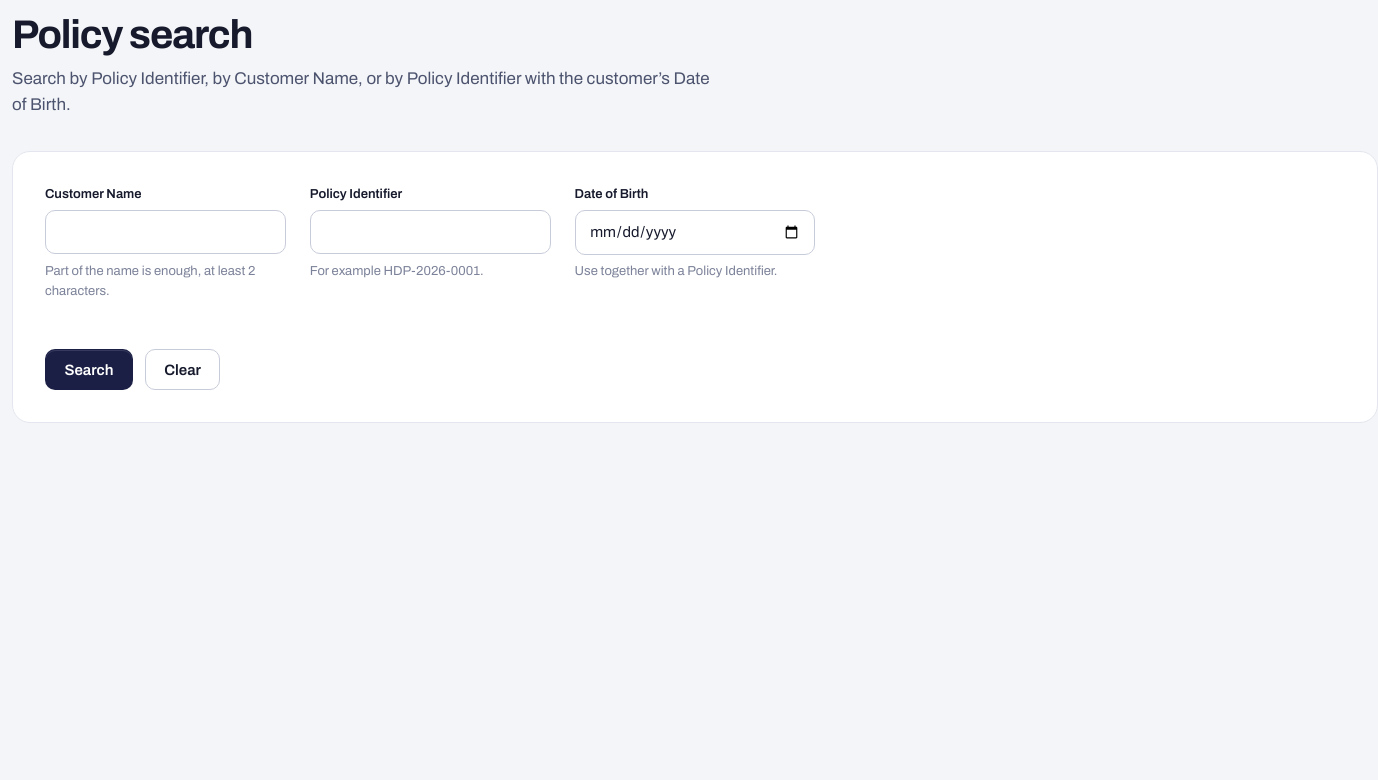
PolicySearchPage › searches by name and links each result to its payments
Type "meera" into the field labelled "Customer Name" at point(165, 232), box [45,210,286,254]
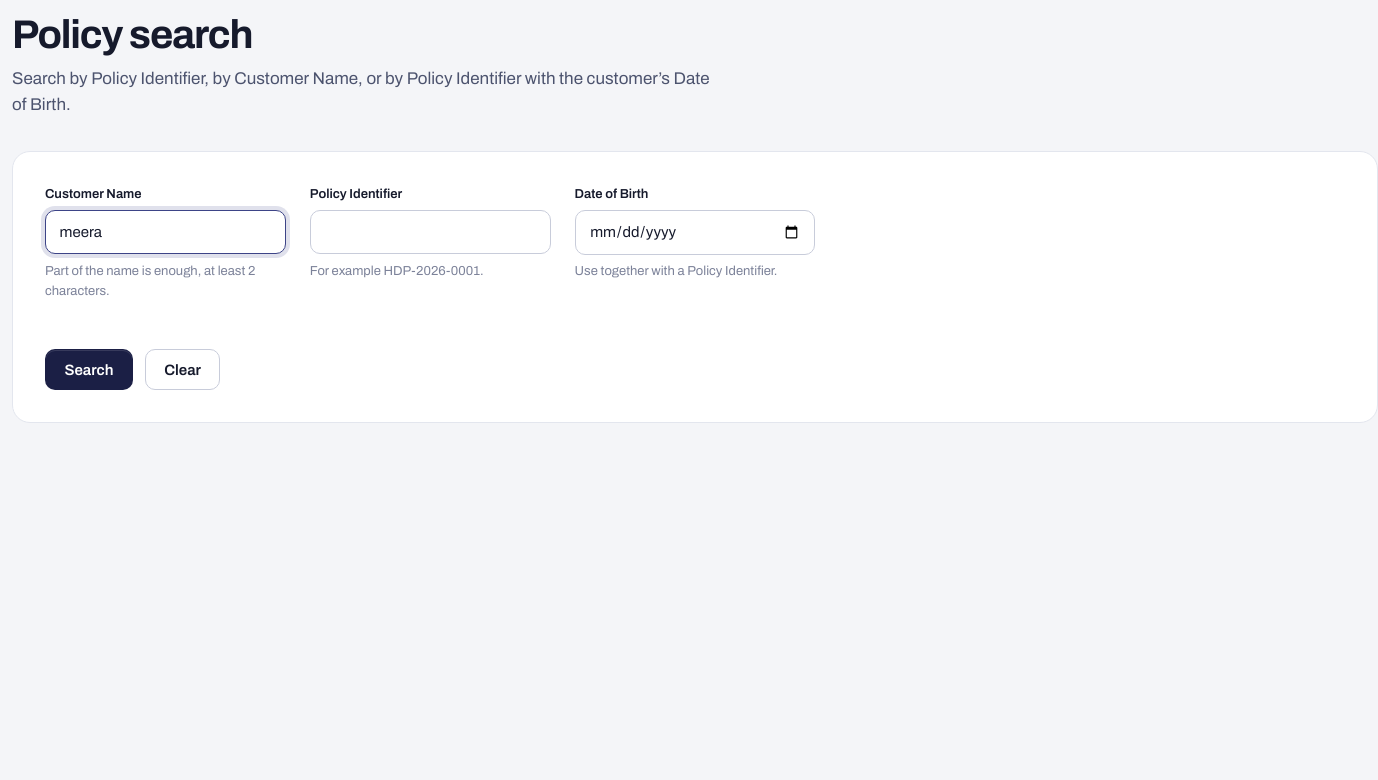
Click the button "Search" at point(89, 370), box [45,349,133,390]
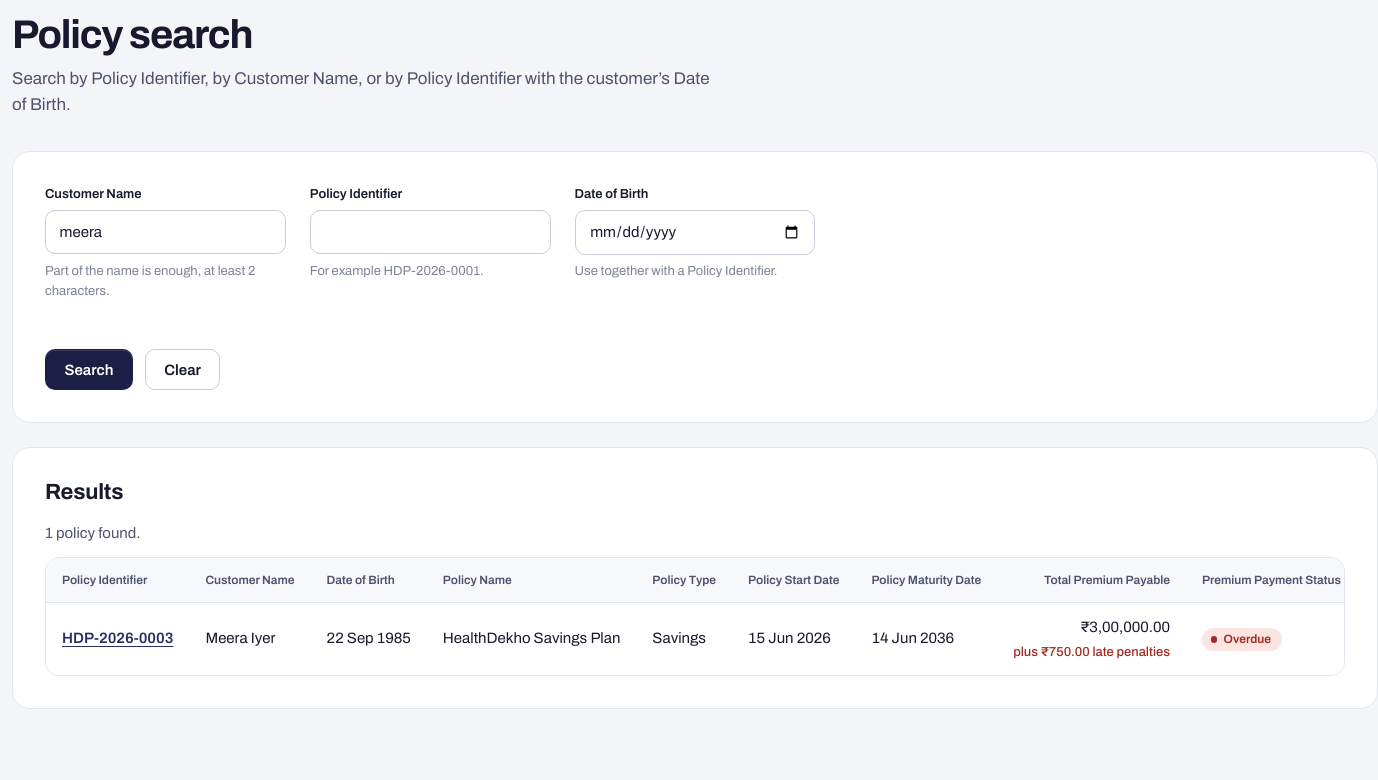
Result: the text "1 policy found." is shown at [45,525,140,541]
